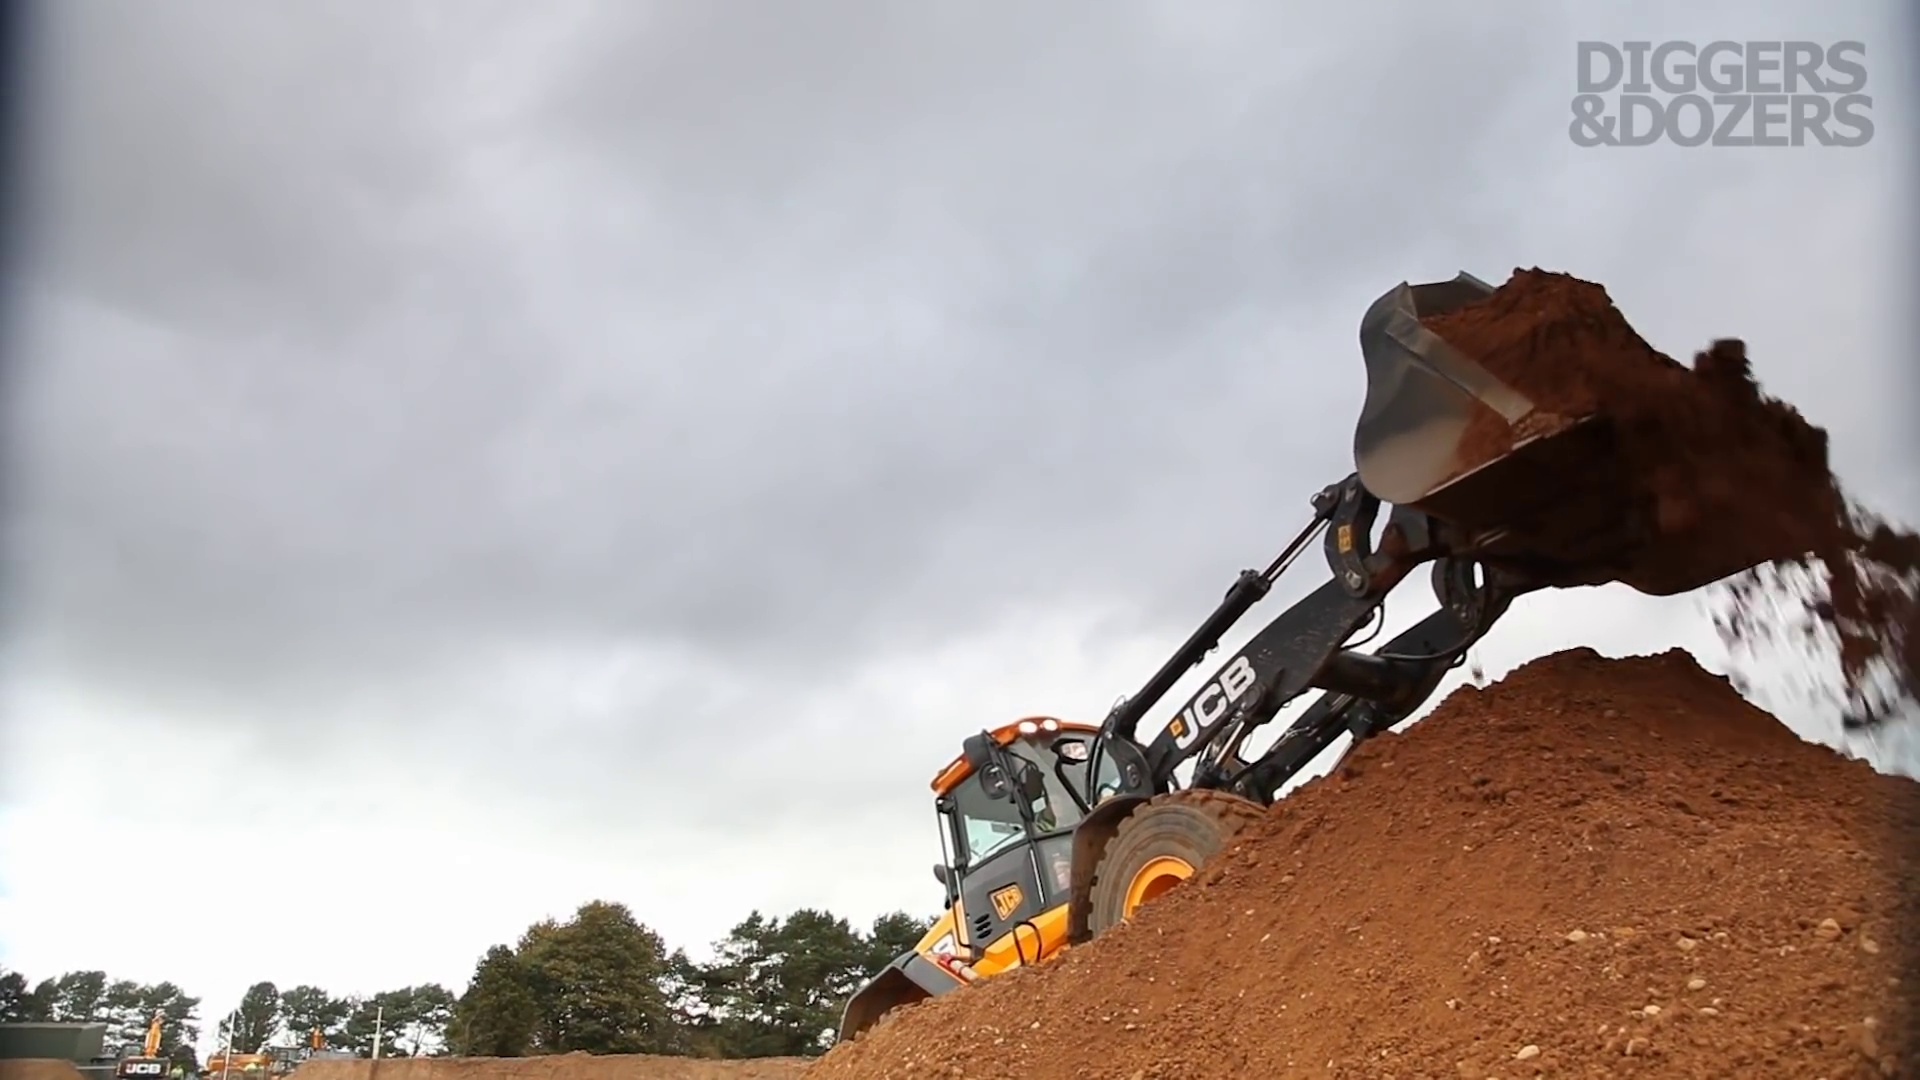wheel loader: (843, 273, 1808, 1080)
